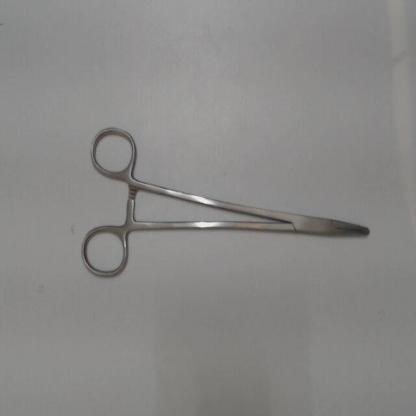8 Mayo Needle Holder: (76, 114, 388, 288)
